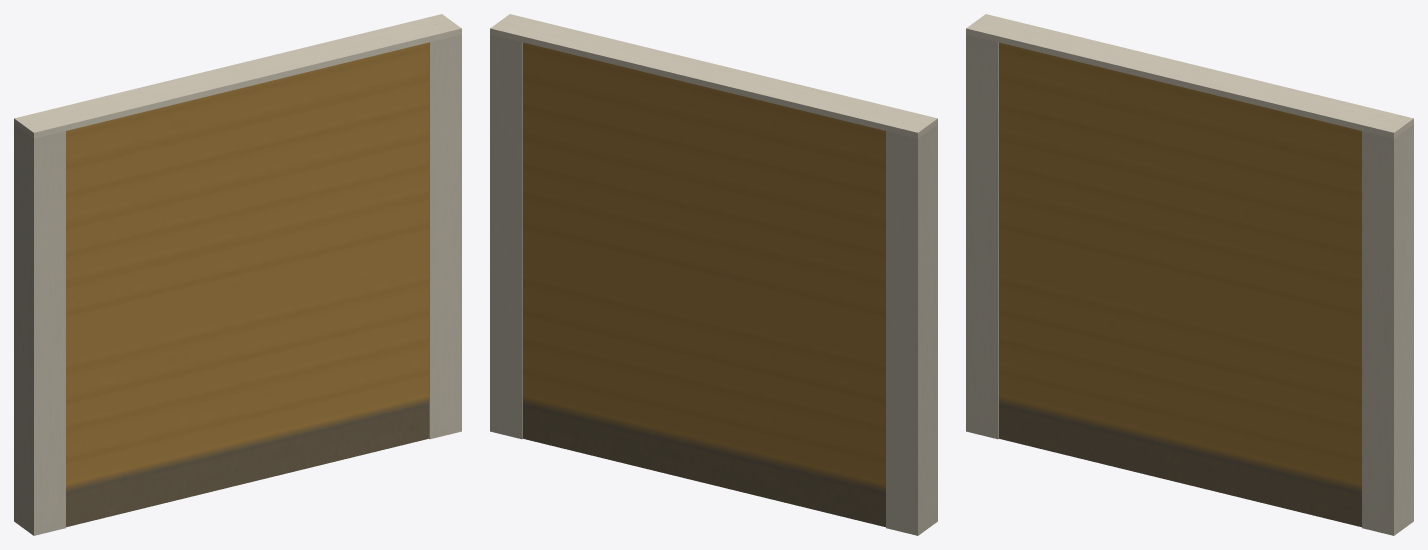
Rendered from house_03_wall_solid.glb.
3 renders of one model, left to right at view 1: azimuth 30°, elevation 25°; view 2: azimuth 150°, elevation 25°; view 3: azimuth 330°, elevation 25°, orthographic.
Parts seen in each view (by area): view 1: outdoor_house_03_wall_solid; view 2: outdoor_house_03_wall_solid; view 3: outdoor_house_03_wall_solid.
Boxes of the visible parts, left/top/right/bottom form: outdoor_house_03_wall_solid: left=14, top=14, right=461, bottom=535; outdoor_house_03_wall_solid: left=490, top=14, right=937, bottom=535; outdoor_house_03_wall_solid: left=966, top=14, right=1413, bottom=535.
Size of the model in its own units: 3 by 2.7 by 0.24.
Materials: 1 (1 with a texture image).
